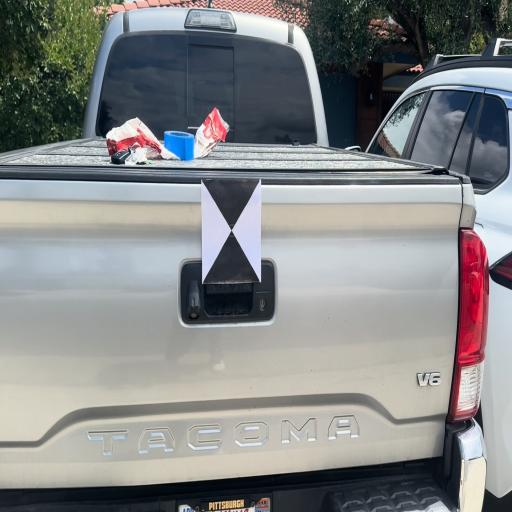target: (202, 180, 262, 281)
